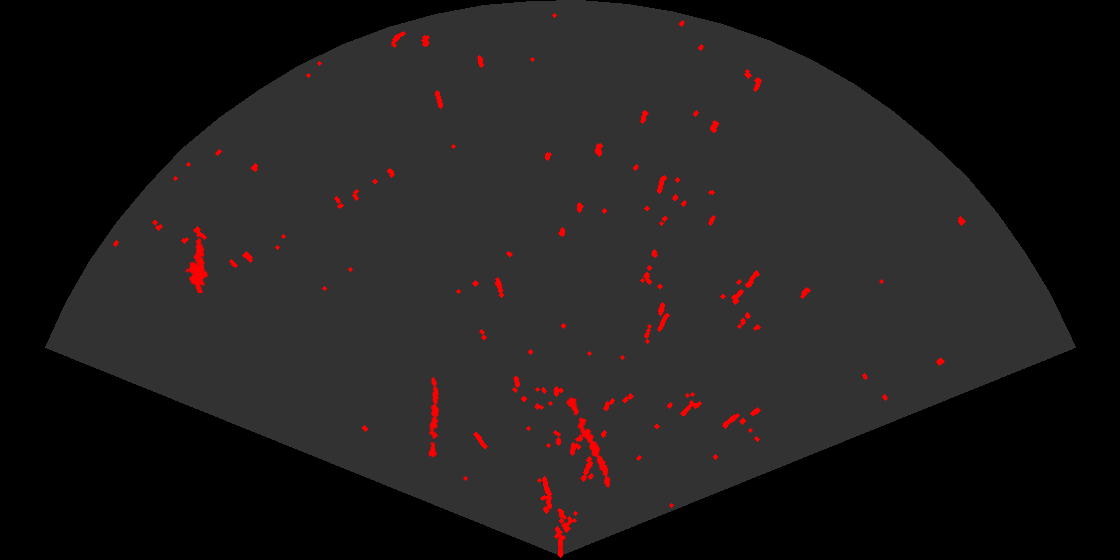chain: (565, 396, 612, 489), (427, 376, 441, 459)
frogman: (184, 236, 210, 293)
